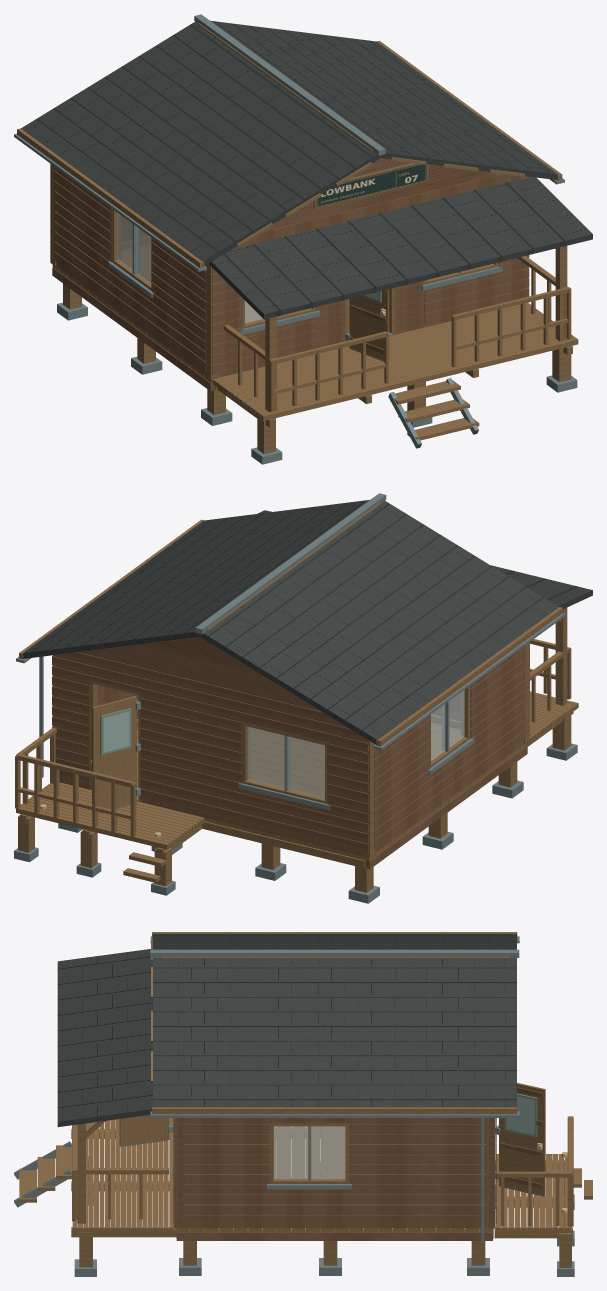
The model's file is ProjectZ_Riverside_Fishing_Cabin.glb.
The picture shows the model from 3 angles, top to bottom: view 1: azimuth 30°, elevation 25°; view 2: azimuth 150°, elevation 25°; view 3: azimuth 270°, elevation 25°; orthographic projection.
Visible parts, largest first — view 1: FrontPorch_REMOVABLE_TruePitchedLeanToRoof, Roof_REMOVABLE_WestSlope_Bay3_Watertight, Roof_REMOVABLE_WestSlope_Bay1_Watertight, Roof_REMOVABLE_WestSlope_Bay2_Watertight, Roof_REMOVABLE_EastSlope_Bay3_Watertight, Roof_REMOVABLE_EastSlope_Bay1_Watertight, Roof_REMOVABLE_EastSlope_Bay2_Watertight, WestExterior_ClapboardBay_3_Rear, WestExterior_ClapboardBay_1_Front, Front_Gable_ClosedTimberTriangle, FrontExterior_ClapboardBay_6_Window_E, FrontPorch_DeckPlank_01 (+43 smaller); view 2: Roof_REMOVABLE_WestSlope_Bay3_Watertight, Roof_REMOVABLE_WestSlope_Bay2_Watertight, Roof_REMOVABLE_WestSlope_Bay1_Watertight, RearExterior_ClapboardBay_3_Center, Roof_REMOVABLE_EastSlope_Bay3_Watertight, Roof_REMOVABLE_EastSlope_Bay2_Watertight, Roof_REMOVABLE_EastSlope_Bay1_Watertight, Rear_Gable_ClosedTimberTriangle, WestExterior_ClapboardBay_3_Rear, RearExterior_ClapboardBay_2_Window, WestExterior_ClapboardBay_1_Front, RearExterior_ClapboardBay_1_PierW (+37 smaller); view 3: Roof_REMOVABLE_EastSlope_Bay3_Watertight, Roof_REMOVABLE_EastSlope_Bay2_Watertight, Roof_REMOVABLE_EastSlope_Bay1_Watertight, FrontPorch_REMOVABLE_TruePitchedLeanToRoof, EastExterior_ClapboardBay_3_Rear, EastExterior_ClapboardBay_1_Front, EastExterior_ClapboardBay_2_Window, EastWall_Solid_Rear, Roof_RidgeCap_Continuous, Roof_Fascia_East, Foundation_Skirting_East, Rear_DoorLeaf_TimberCore (+46 smaller).
Boxes of the visible parts, x1,y1,x2,y2 form: FrontPorch_REMOVABLE_TruePitchedLeanToRoof: (208,176,592,319); Roof_REMOVABLE_WestSlope_Bay3_Watertight: (21,21,261,177); Roof_REMOVABLE_WestSlope_Bay1_Watertight: (146,114,380,265); Roof_REMOVABLE_WestSlope_Bay2_Watertight: (89,72,319,219); Roof_REMOVABLE_EastSlope_Bay3_Watertight: (210,20,444,91); Roof_REMOVABLE_EastSlope_Bay1_Watertight: (335,112,558,179); Roof_REMOVABLE_EastSlope_Bay2_Watertight: (279,70,501,132); WestExterior_ClapboardBay_3_Rear: (54,167,111,301); WestExterior_ClapboardBay_1_Front: (151,238,205,370); Front_Gable_ClosedTimberTriangle: (265,158,498,230); FrontExterior_ClapboardBay_6_Window_E: (424,174,499,322); FrontPorch_DeckPlank_01: (261,338,578,420); Roof_REMOVABLE_WestSlope_Bay3_Watertight: (200,584,444,744); Roof_REMOVABLE_WestSlope_Bay2_Watertight: (272,542,501,690); Roof_REMOVABLE_WestSlope_Bay1_Watertight: (329,500,558,648); RearExterior_ClapboardBay_3_Center: (141,667,241,821); Roof_REMOVABLE_EastSlope_Bay3_Watertight: (22,583,255,658); Roof_REMOVABLE_EastSlope_Bay2_Watertight: (91,541,312,603); Roof_REMOVABLE_EastSlope_Bay1_Watertight: (148,500,369,561); Rear_Gable_ClosedTimberTriangle: (80,637,319,710); WestExterior_ClapboardBay_3_Rear: (374,715,430,849); RearExterior_ClapboardBay_2_Window: (241,692,327,842); WestExterior_ClapboardBay_1_Front: (470,645,525,778); RearExterior_ClapboardBay_1_PierW: (327,716,368,852); Roof_REMOVABLE_EastSlope_Bay3_Watertight: (380,957,516,1107); Roof_REMOVABLE_EastSlope_Bay2_Watertight: (266,958,380,1107); Roof_REMOVABLE_EastSlope_Bay1_Watertight: (153,957,266,1107); FrontPorch_REMOVABLE_TruePitchedLeanToRoof: (57,949,152,1126); EastExterior_ClapboardBay_3_Rear: (349,1118,485,1223); EastExterior_ClapboardBay_1_Front: (184,1118,269,1223); EastExterior_ClapboardBay_2_Window: (269,1118,349,1223); EastWall_Solid_Rear: (349,1122,485,1228); Roof_RidgeCap_Continuous: (150,949,519,957); Roof_Fascia_East: (152,1107,517,1114); Foundation_Skirting_East: (176,1232,492,1240); Rear_DoorLeaf_TimberCore: (499,1082,545,1196).
Bounding box in the file's own units: 7.4 × 4.8 × 10.12.
6 materials, 2 textured.
